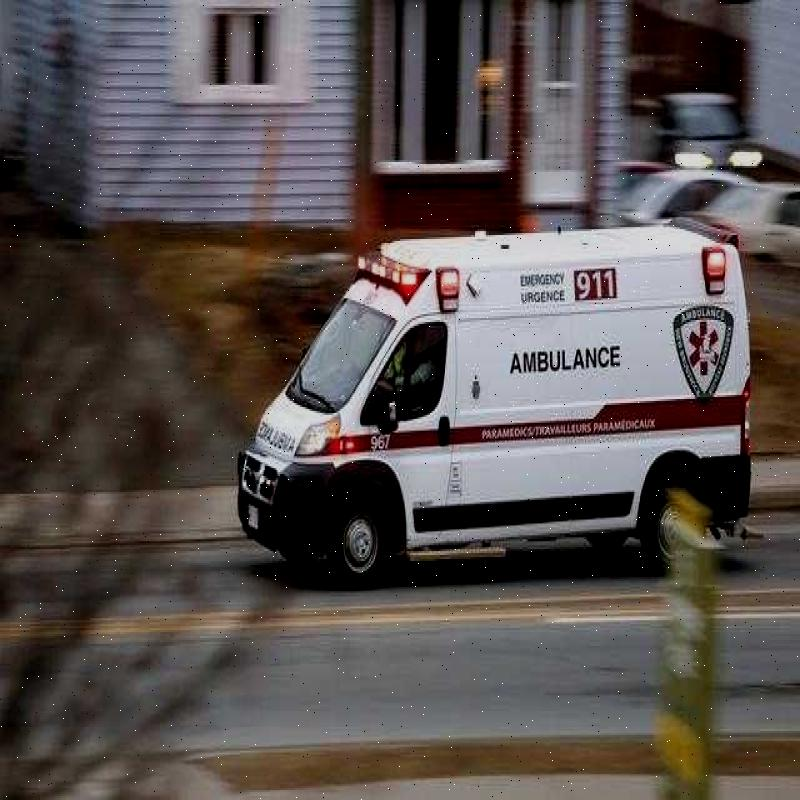AmbulanceSiren: (346, 230, 425, 313)
